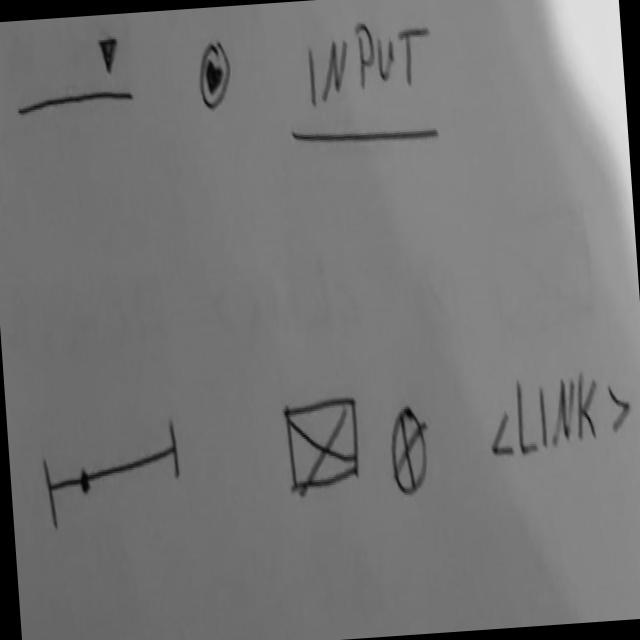icon-button: (193, 33, 236, 116)
image: (281, 391, 364, 498), (386, 402, 432, 499)
input: (282, 14, 442, 154)
link: (484, 361, 636, 463)
select: (8, 28, 137, 120)
slider: (37, 414, 185, 532)
